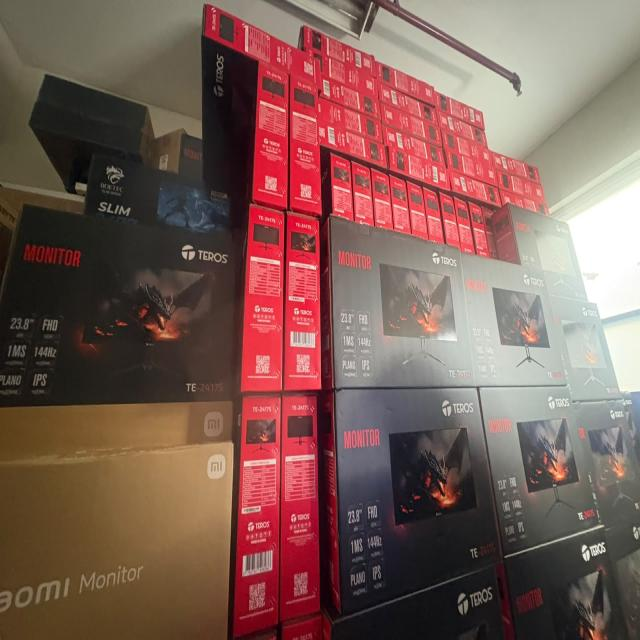caja-monitor: (0, 204, 236, 406), (0, 443, 232, 639), (334, 387, 503, 615), (329, 213, 477, 390), (203, 6, 321, 184), (481, 386, 599, 557), (0, 400, 233, 467), (461, 252, 565, 385), (504, 529, 628, 639), (87, 153, 238, 243), (330, 570, 505, 639), (233, 397, 280, 635), (492, 203, 588, 300), (281, 394, 319, 622), (573, 401, 640, 528), (241, 204, 283, 394), (549, 294, 621, 402), (285, 212, 323, 393), (255, 64, 288, 209), (290, 77, 324, 214), (305, 47, 378, 99), (304, 27, 376, 77), (320, 120, 387, 170), (380, 103, 443, 148), (375, 60, 436, 106), (387, 147, 450, 191), (320, 99, 382, 143), (377, 82, 439, 126), (321, 76, 382, 120), (382, 127, 445, 168), (448, 170, 502, 208), (434, 90, 485, 130), (436, 109, 488, 148), (441, 128, 493, 167), (445, 151, 498, 188), (490, 151, 541, 184), (330, 152, 354, 222), (496, 169, 545, 203), (499, 190, 551, 218), (352, 162, 374, 227), (371, 169, 393, 230), (389, 175, 411, 235), (439, 192, 461, 249), (407, 182, 428, 239), (454, 197, 475, 254), (468, 201, 489, 257), (424, 188, 444, 242), (482, 207, 498, 260)
